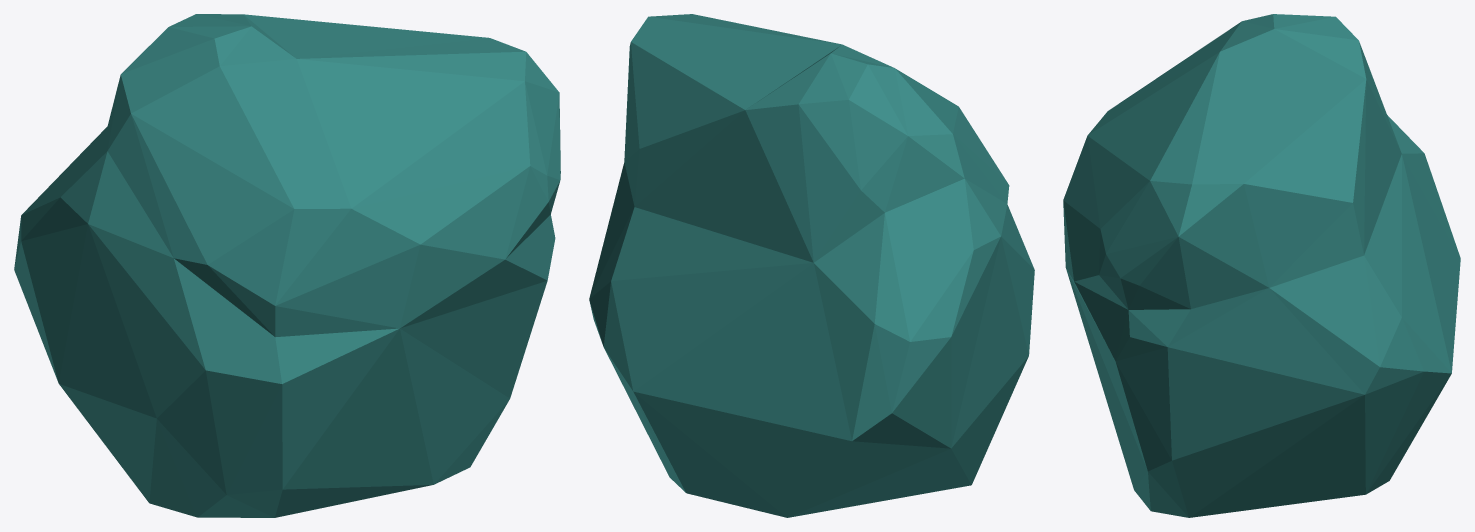
File: SM_Rock_Sea_Small_Round_B.fbx
3 views of the same model, side by side, from view 1: azimuth 30°, elevation 25°; view 2: azimuth 150°, elevation 25°; view 3: azimuth 270°, elevation 25° (orthographic). The views are drawn at different scales.
Parts seen in each view (by area): view 1: rock-sea-small-round-b; view 2: rock-sea-small-round-b; view 3: rock-sea-small-round-b.
Part boxes in pixels (bbox=[...]): rock-sea-small-round-b: bbox=[14, 14, 560, 517]; rock-sea-small-round-b: bbox=[589, 14, 1034, 517]; rock-sea-small-round-b: bbox=[1063, 14, 1460, 517].
Size of the model in its own units: 1.3 by 1.23 by 1.08.
